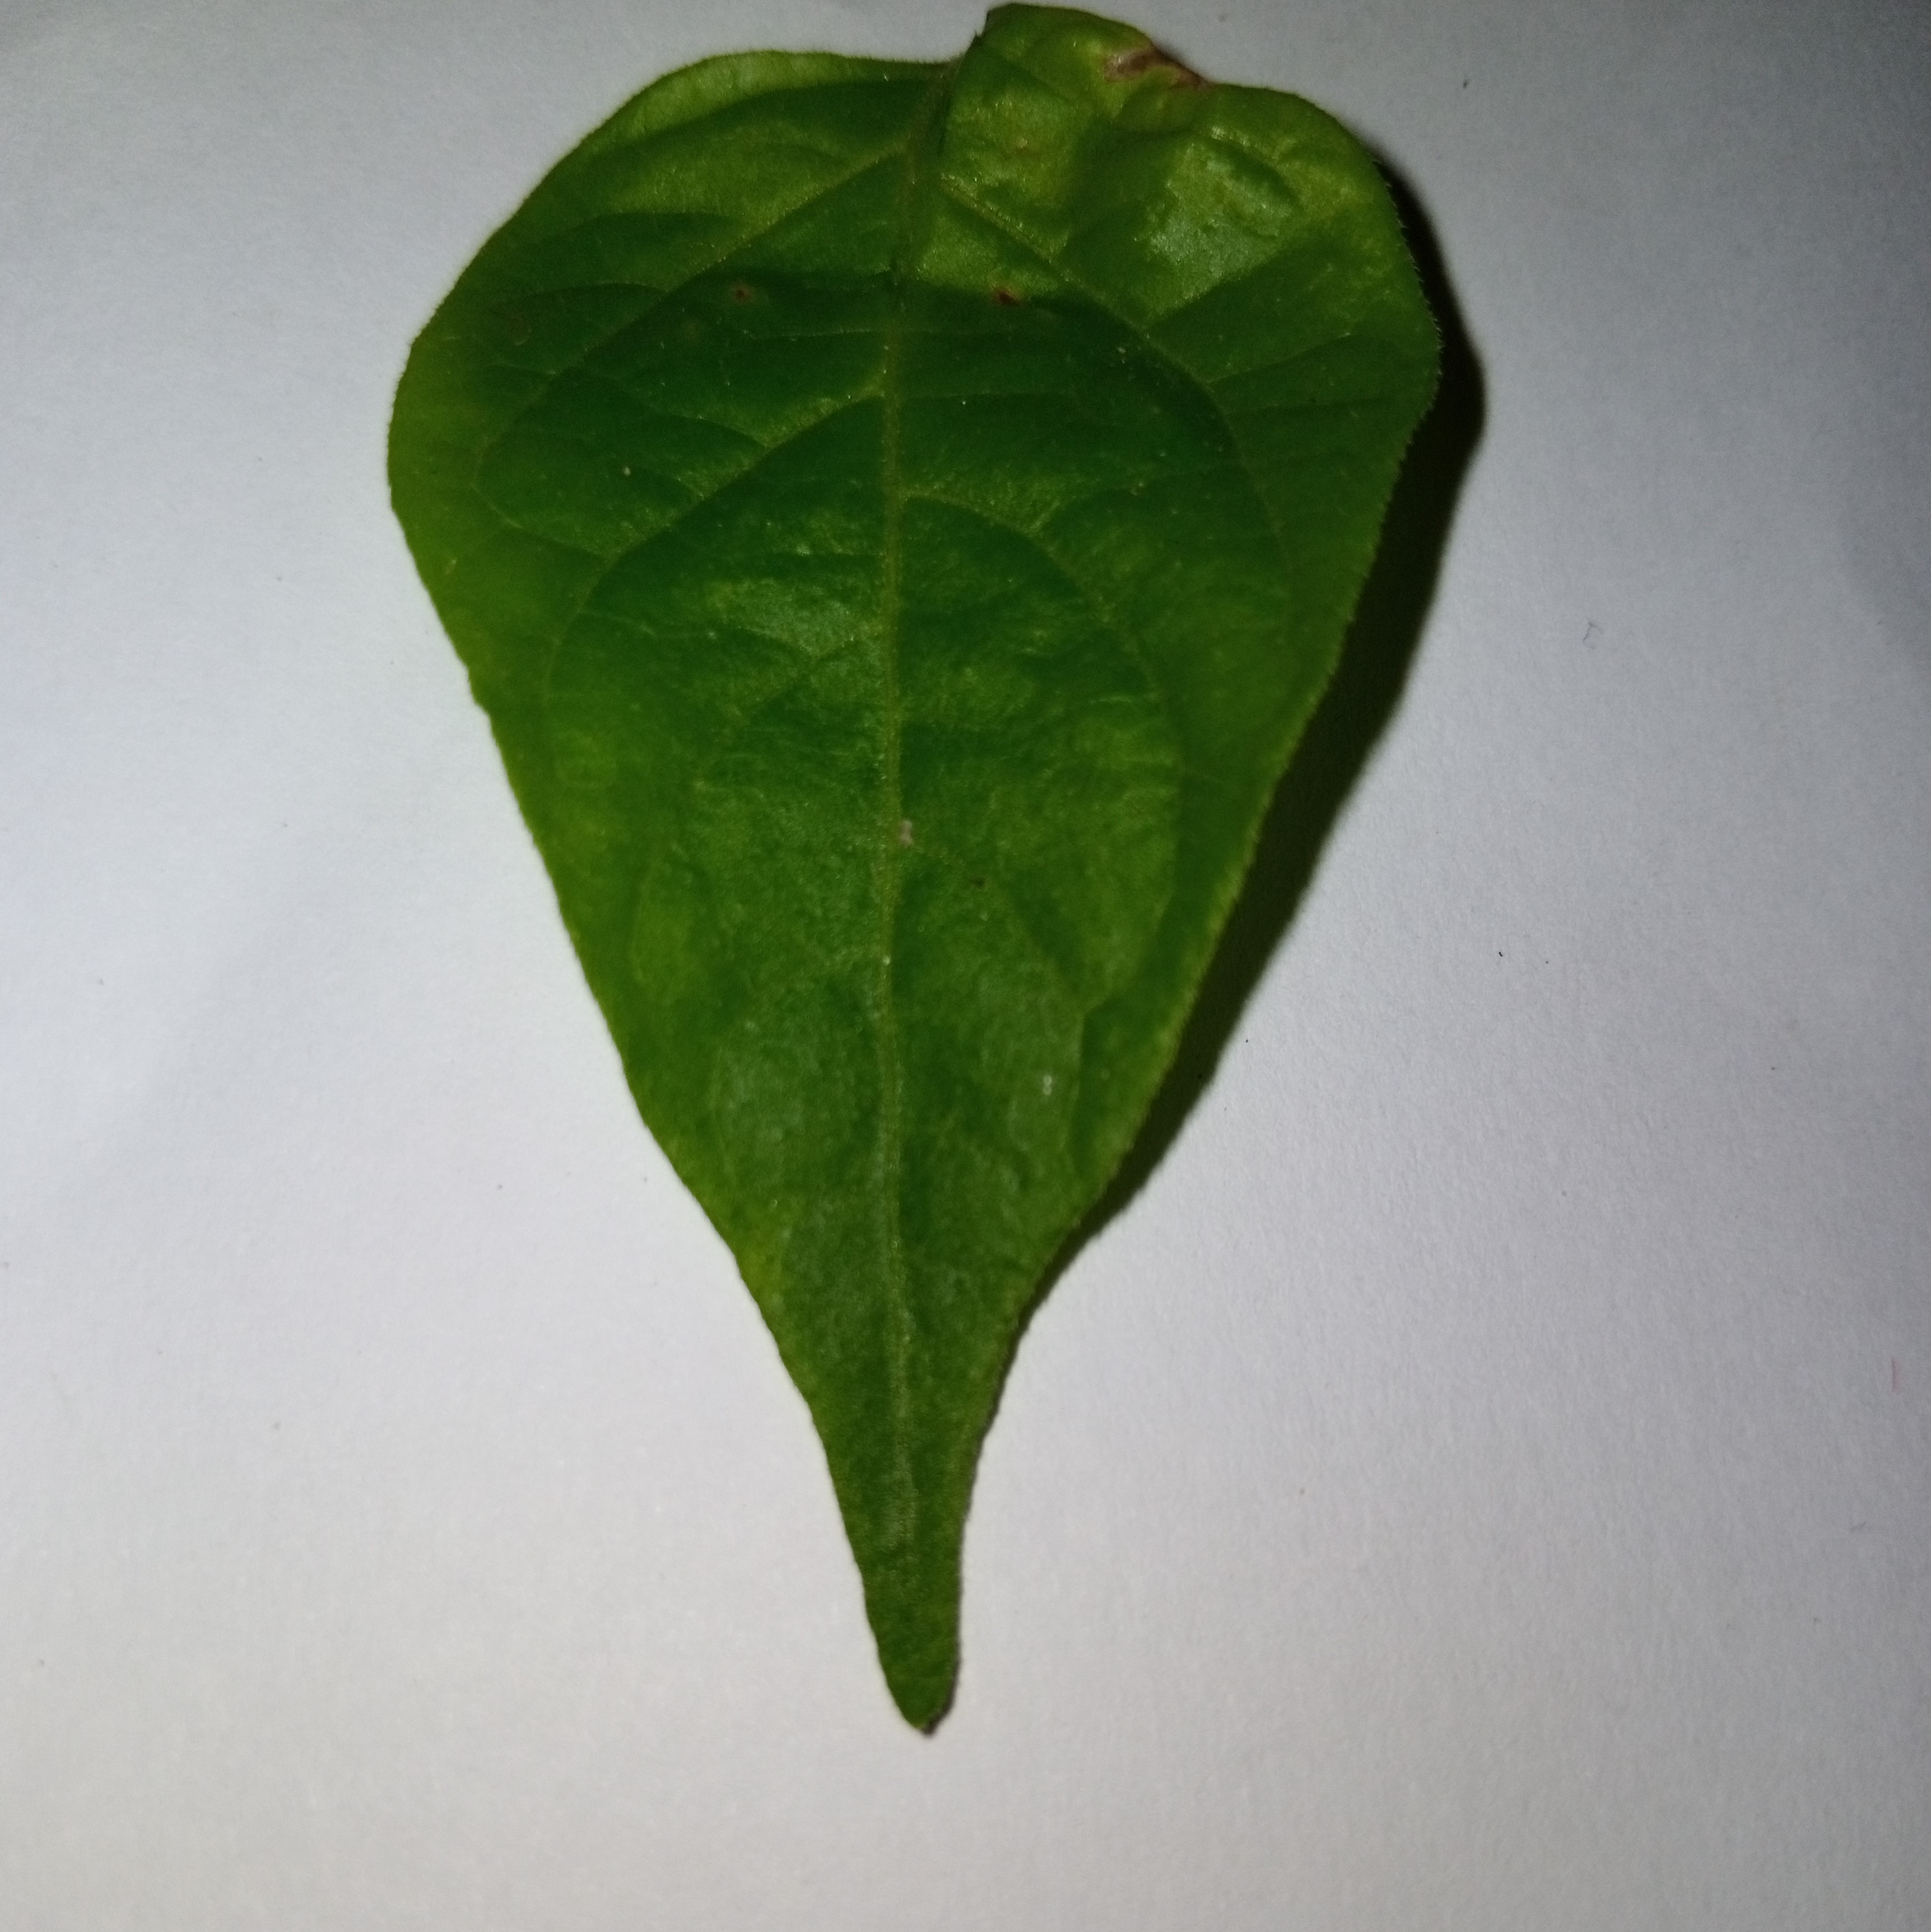Leaf: (317, 16, 1593, 1877)
